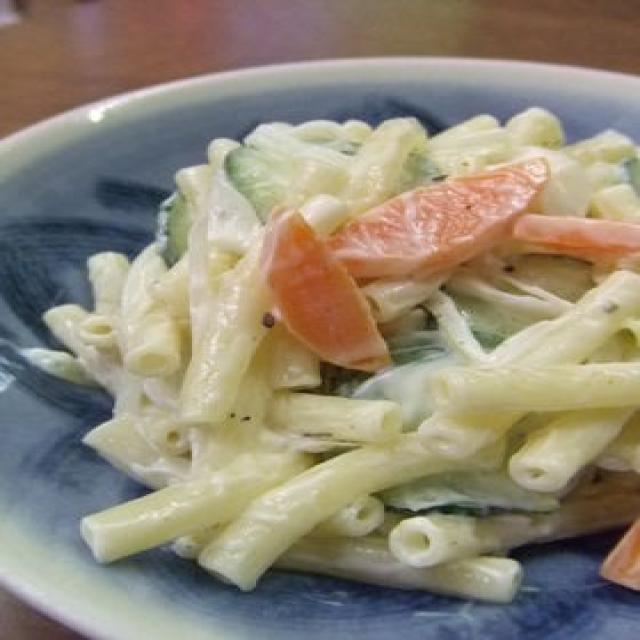蔬菜料理: (0, 51, 640, 640)
